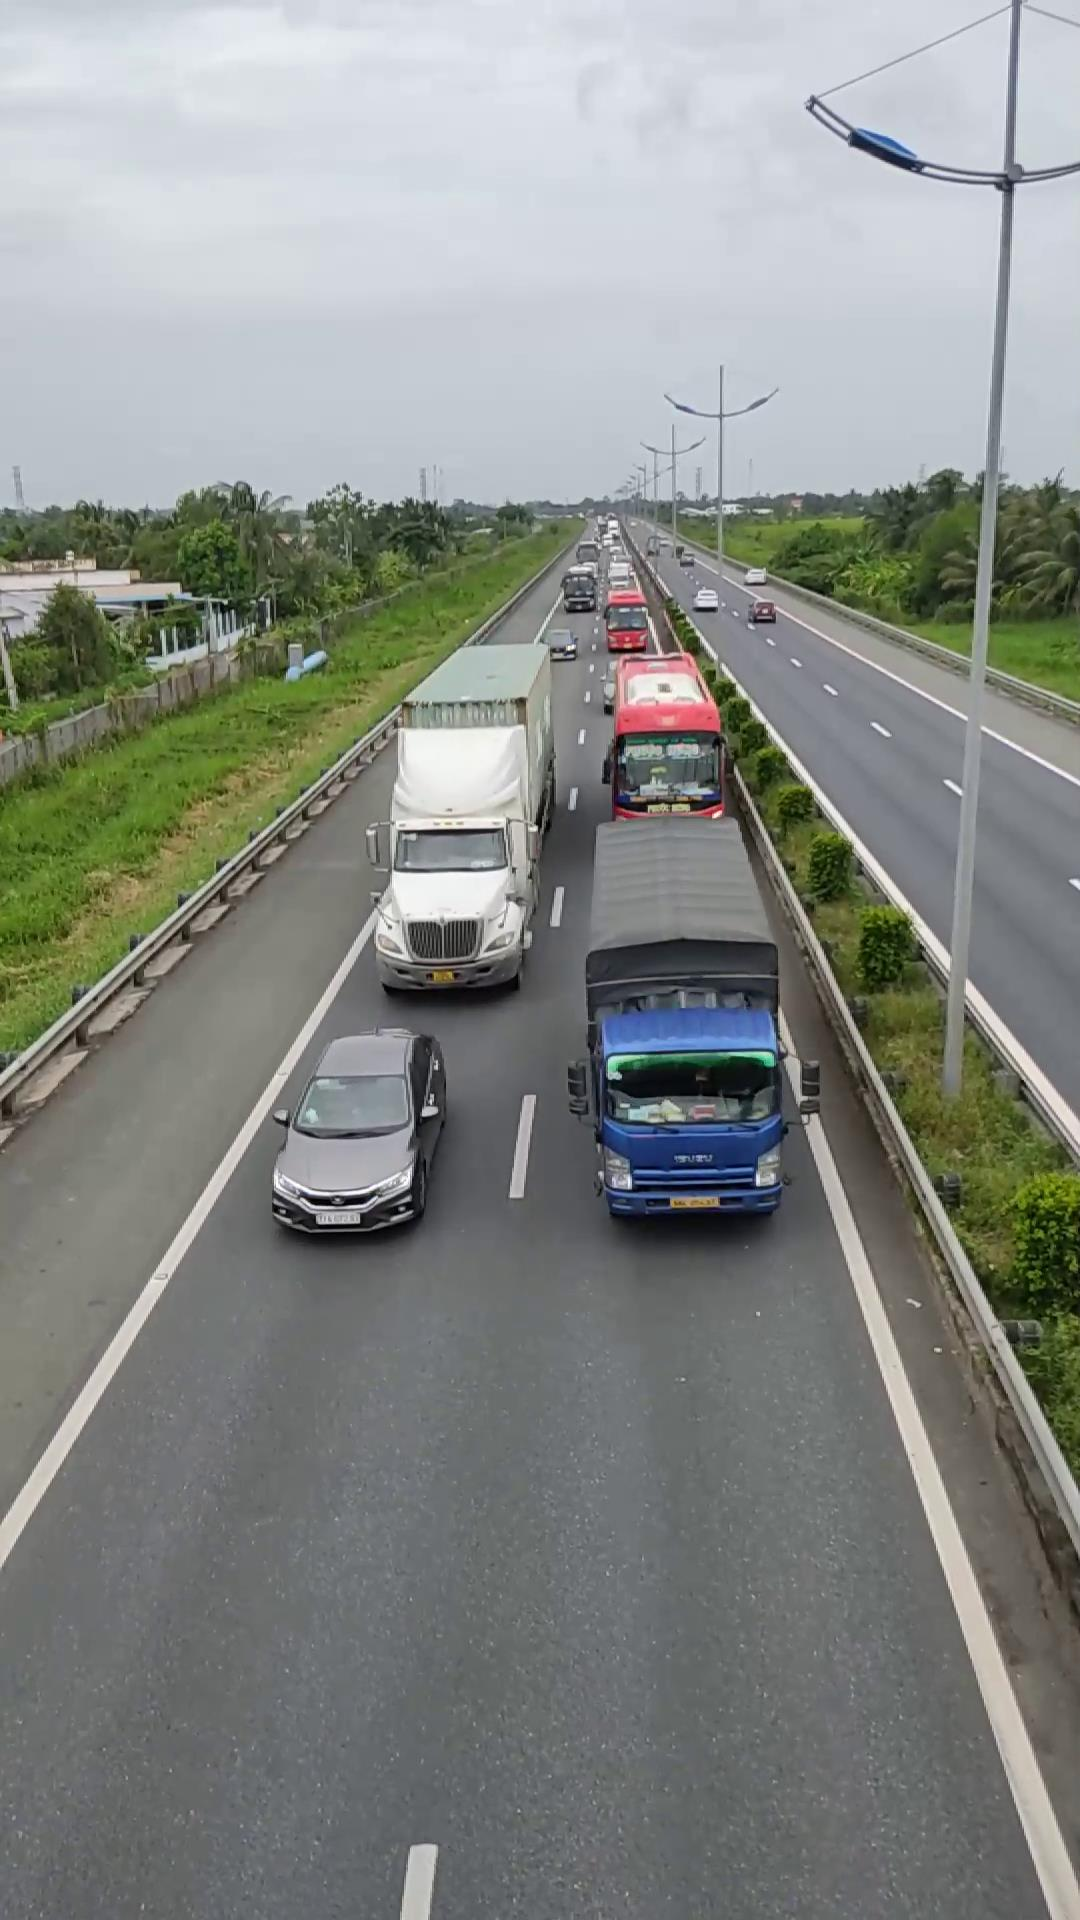car: (267, 1027, 450, 1236)
container: (369, 633, 559, 996)
truck: (565, 813, 794, 1224)
